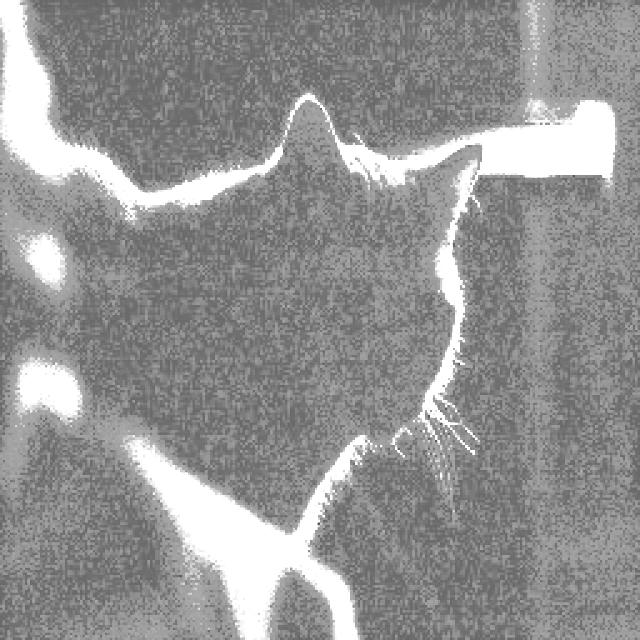cat: (0, 43, 500, 581)
